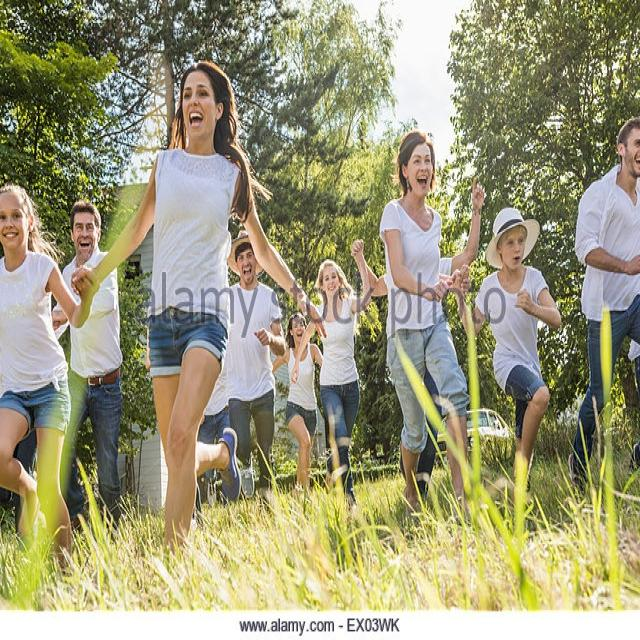body: (198, 159, 640, 515), (67, 53, 330, 591), (438, 202, 564, 543), (377, 129, 483, 524), (0, 180, 102, 583), (568, 115, 640, 494), (49, 198, 126, 546), (288, 235, 375, 534), (223, 228, 289, 517), (270, 309, 324, 497)
